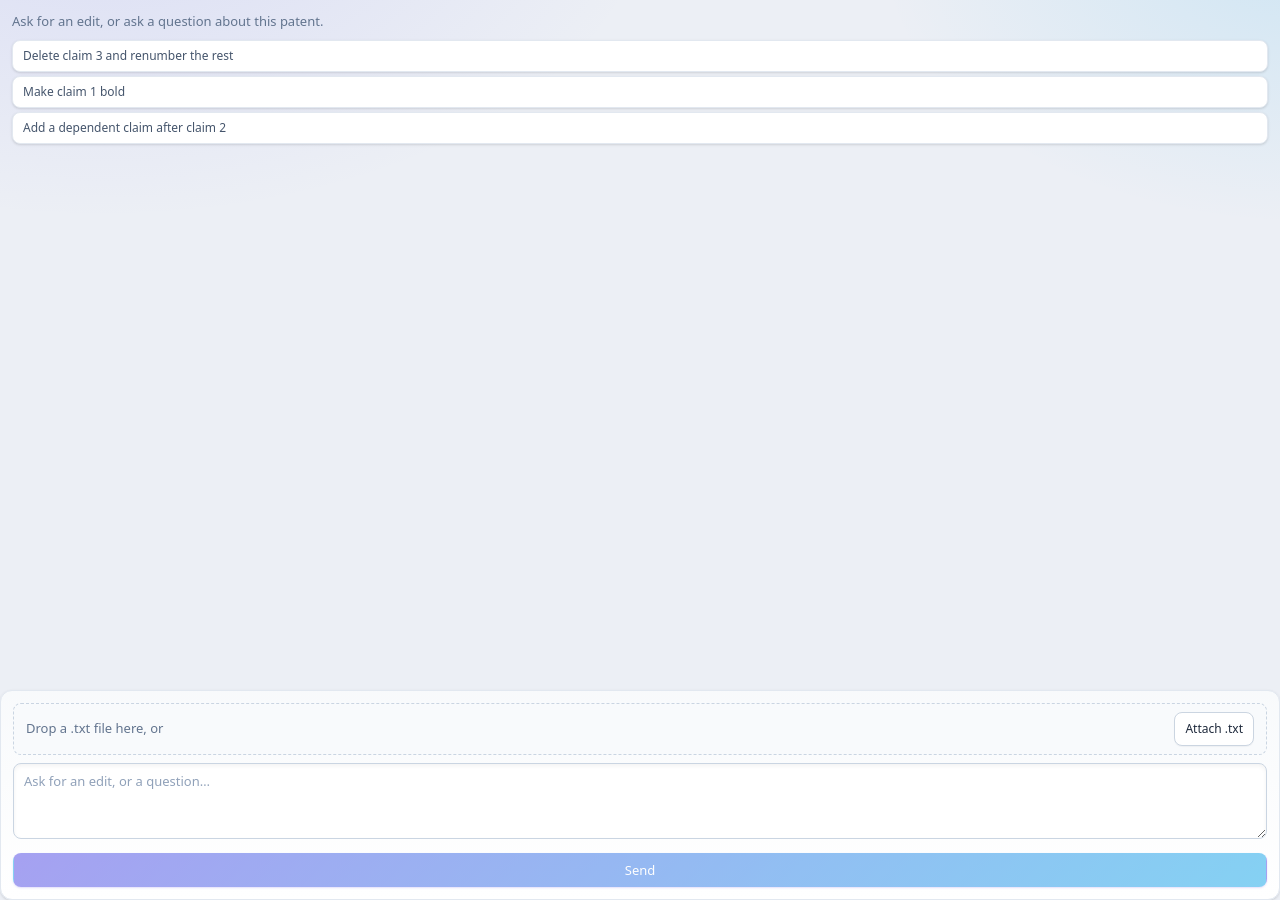
Test: CP-03 Proceed applies, versions, moves, and grants consent
Type "delete claim 3" into the text box named "Ask the AI". click: point(640, 801)
box: [13,762,1267,839]
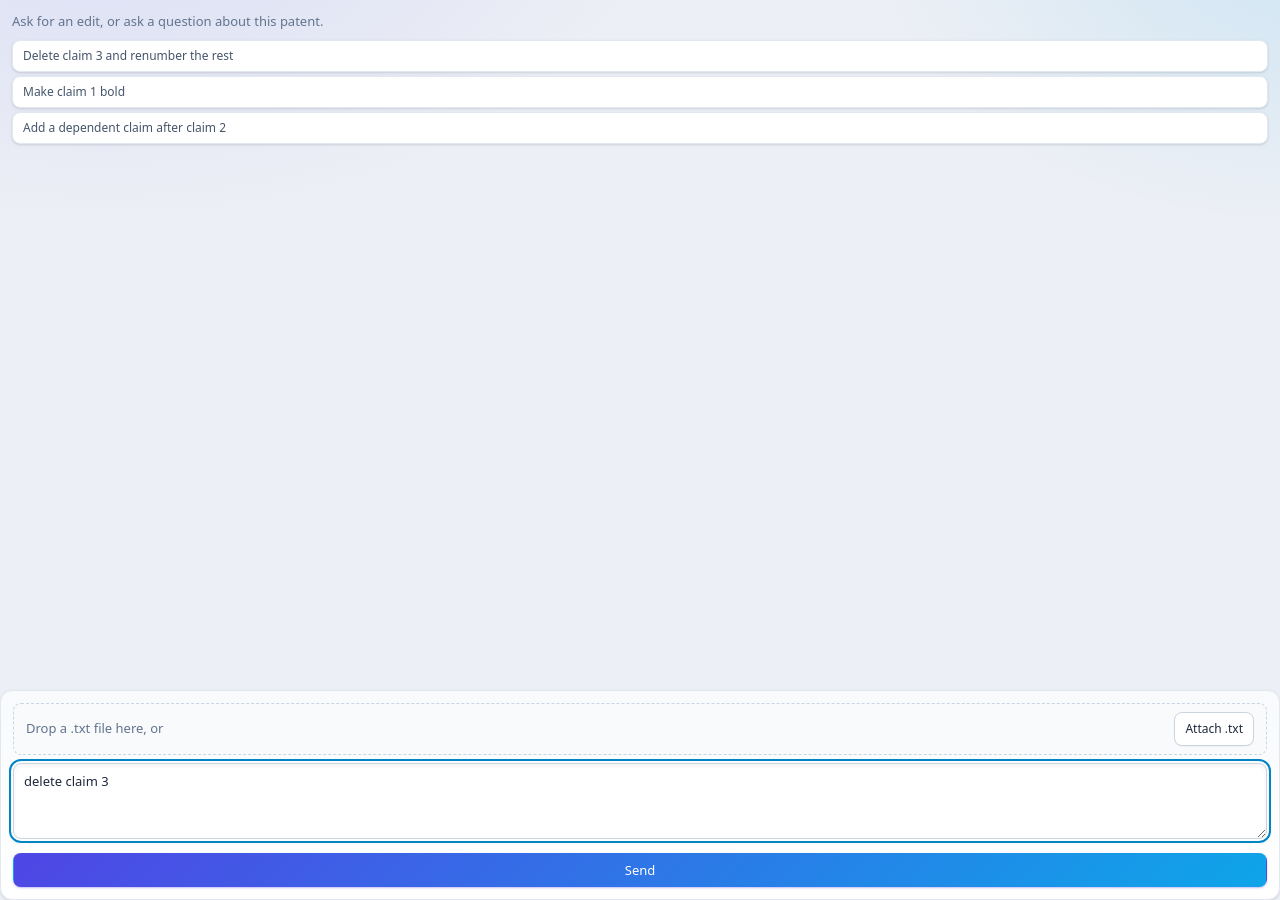
Click the button "Send". click: point(640, 870)
box: [13,853,1267,887]
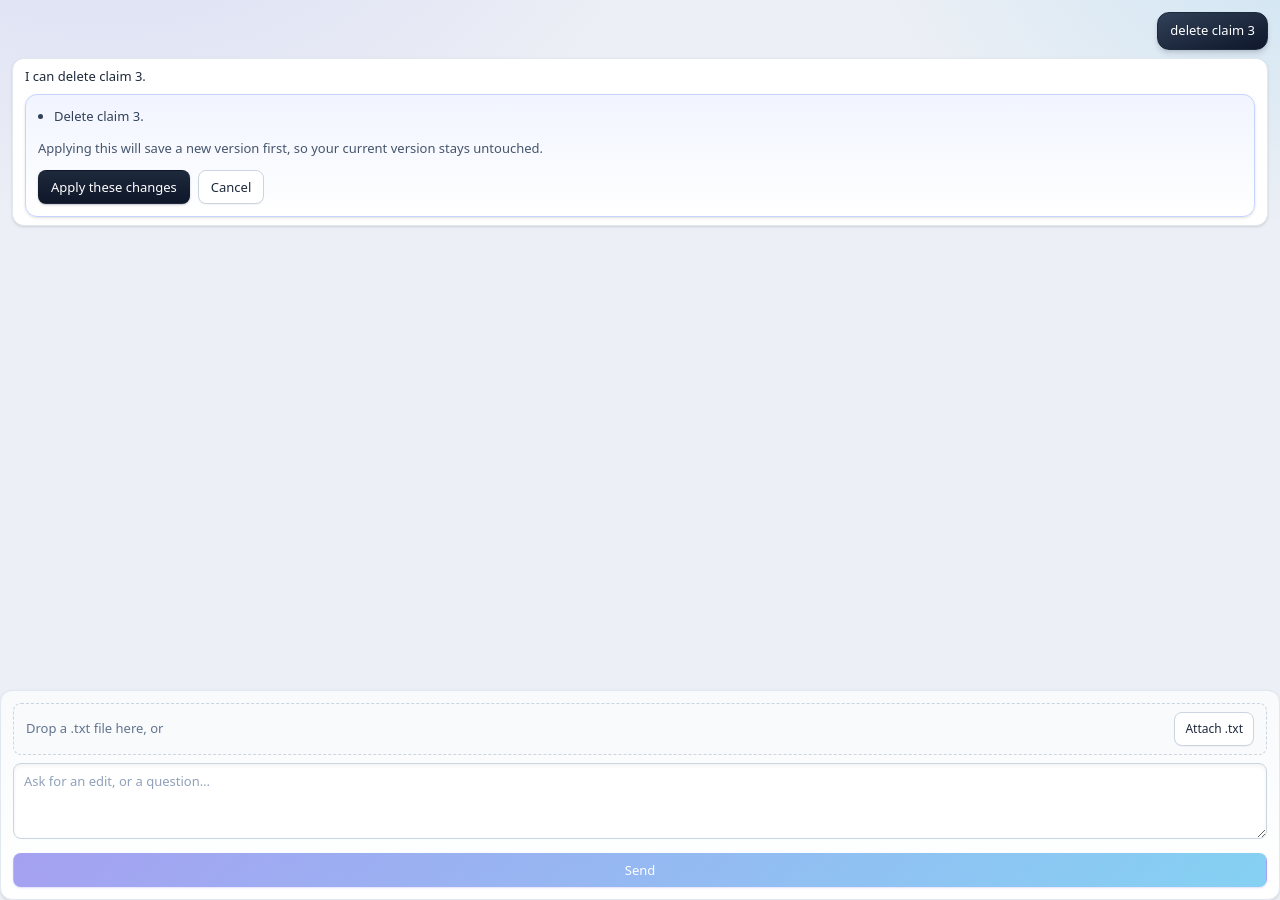
Expected: the button "Apply these changes" is shown
Click the button "Apply these changes". click: point(114, 187)
box: [38,170,190,204]
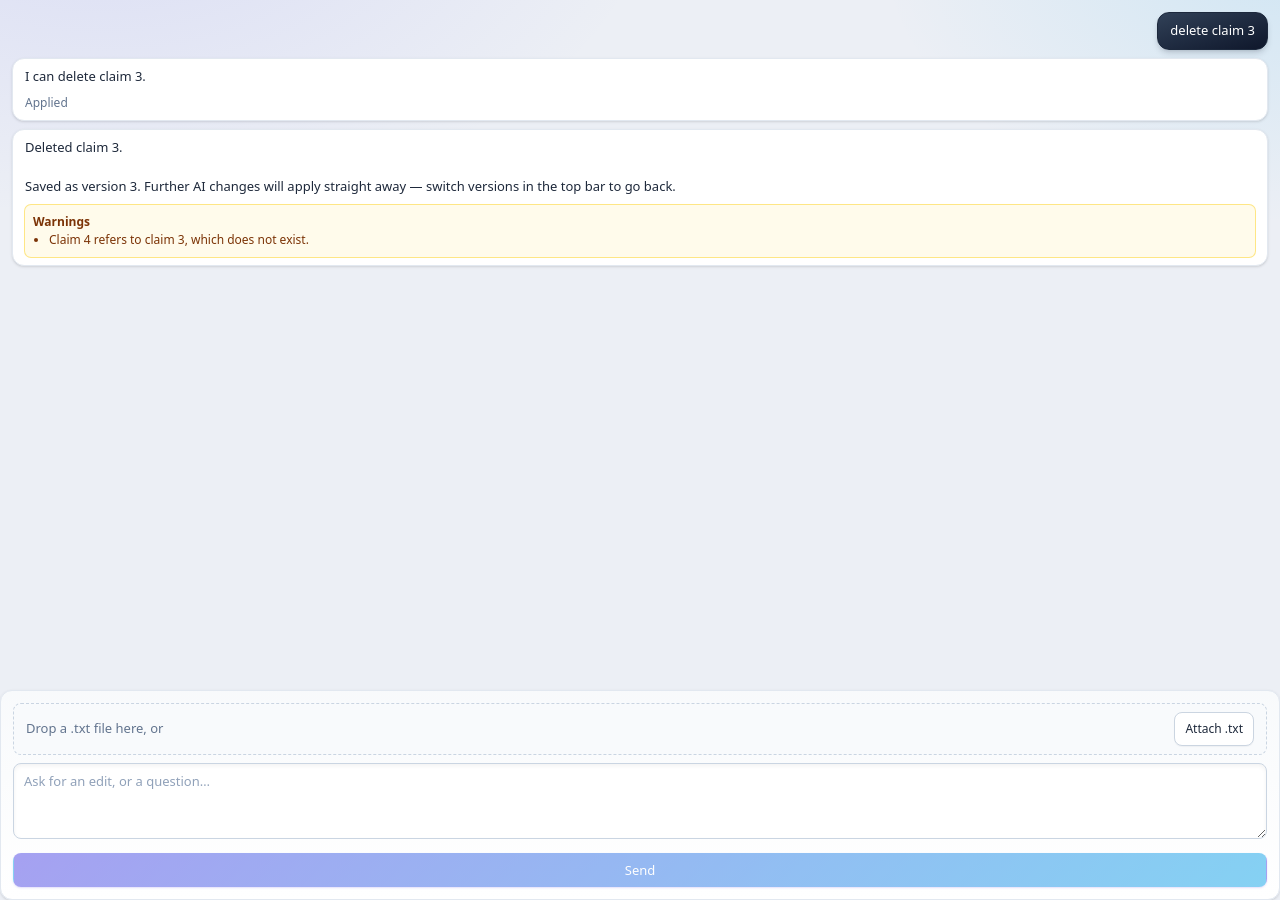
Expected: the text "delete claim 3" is shown, [1170,21,1255,40]
Expected: the text "Warnings" is shown, [33,212,90,230]
Expected: the list item "Claim 4 refers to claim 3, which does not exist." is shown, [49,230,309,248]
